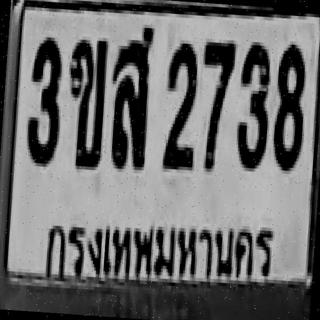A02: (63, 36, 109, 167)
A40: (105, 22, 154, 167)
N02: (160, 39, 200, 167)
N03: (24, 33, 64, 164), (233, 38, 271, 169)
N07: (194, 39, 234, 170)
N08: (270, 40, 306, 168)
P04: (31, 191, 294, 320)
